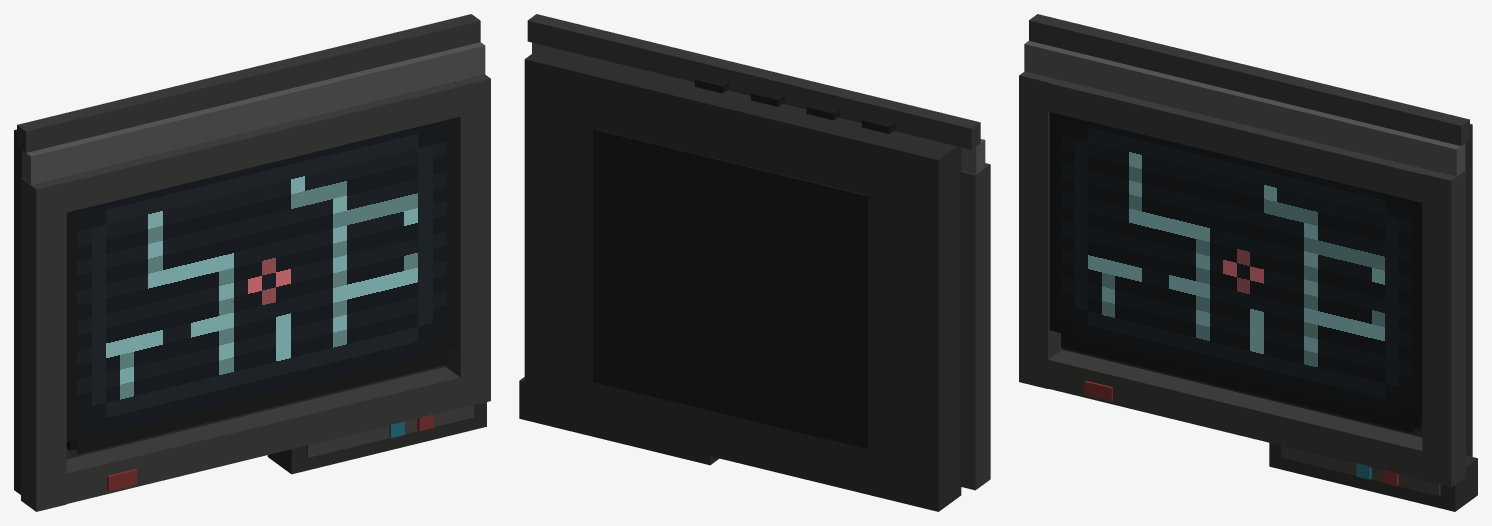
Rendered from CMU3DStationMapCloud.glb.
3 renders of one model, left to right at view 1: azimuth 30°, elevation 25°; view 2: azimuth 150°, elevation 25°; view 3: azimuth 330°, elevation 25°, orthographic. The views are drawn at different scales.
Parts seen in each view (by area): view 1: source screen insert, lower bezel, top bevel tier, left thick bezel, upper bezel, top shadow tier, right thick bezel, rear electronics shell, lower service tab, service tab inset; view 2: rear electronics shell, rear wall mounting cleat, top shadow tier, left thick bezel, lower service tab, top bevel tier; view 3: source screen insert, lower bezel, top bevel tier, right thick bezel, upper bezel, top shadow tier, left thick bezel, lower service tab, rear electronics shell, service tab inset.
Boxes of the visible parts, x1=… form: source screen insert: x1=66, y1=117, x2=458, y2=454; lower bezel: x1=65, y1=367, x2=461, y2=504; top bevel tier: x1=21, y1=42, x2=485, y2=184; left thick bezel: x1=21, y1=177, x2=66, y2=511; upper bezel: x1=61, y1=82, x2=461, y2=212; top shadow tier: x1=17, y1=14, x2=480, y2=152; right thick bezel: x1=445, y1=74, x2=490, y2=408; rear electronics shell: x1=14, y1=129, x2=445, y2=494; lower service tab: x1=267, y1=402, x2=486, y2=474; service tab inset: x1=306, y1=405, x2=473, y2=457; rear electronics shell: x1=524, y1=45, x2=961, y2=511; rear wall mounting cleat: x1=593, y1=128, x2=869, y2=449; top shadow tier: x1=527, y1=14, x2=980, y2=149; left thick bezel: x1=960, y1=163, x2=990, y2=490; lower service tab: x1=519, y1=377, x2=719, y2=465; top bevel tier: x1=532, y1=42, x2=985, y2=174; source screen insert: x1=1049, y1=112, x2=1422, y2=432; lower bezel: x1=1046, y1=349, x2=1422, y2=479; top bevel tier: x1=1024, y1=41, x2=1465, y2=176; right thick bezel: x1=1422, y1=169, x2=1465, y2=487; upper bezel: x1=1046, y1=78, x2=1427, y2=202; top shadow tier: x1=1029, y1=14, x2=1469, y2=145; left thick bezel: x1=1019, y1=71, x2=1061, y2=388; lower service tab: x1=1269, y1=442, x2=1477, y2=511; rear electronics shell: x1=1062, y1=124, x2=1472, y2=456; service tab inset: x1=1281, y1=445, x2=1440, y2=495.
Size of the model in its own units: 1 by 0.8437 by 0.155.
13 materials, 1 textured.
